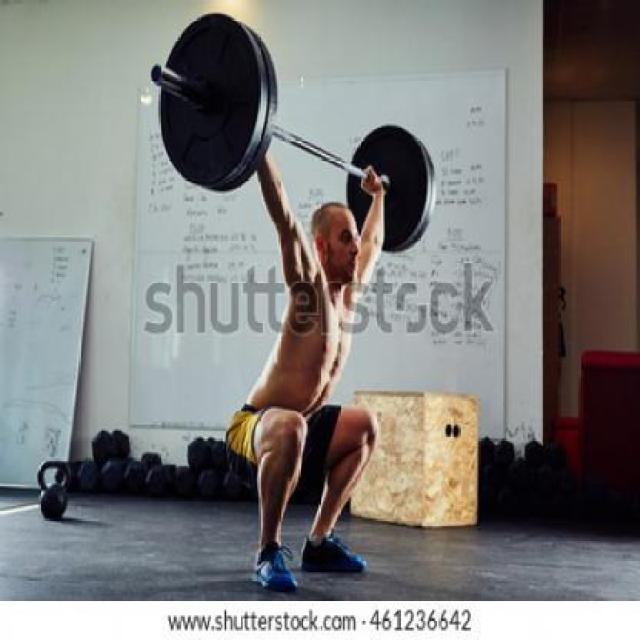barbell: (146, 8, 264, 194)
